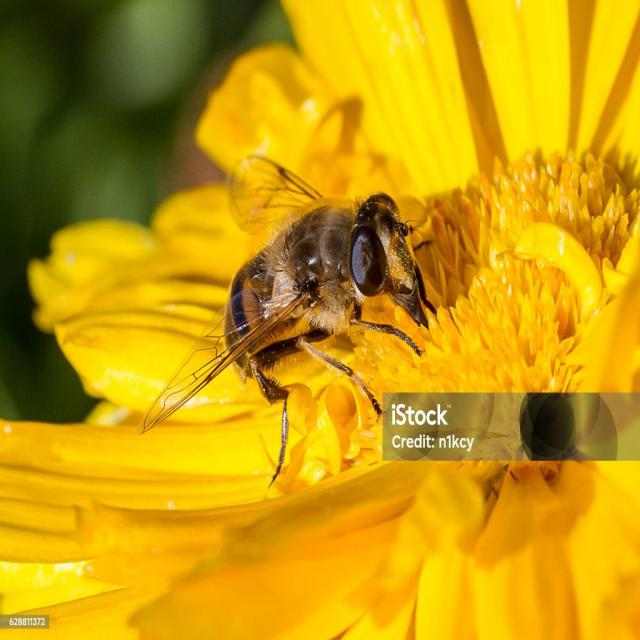hoverfly: (135, 150, 440, 498)
